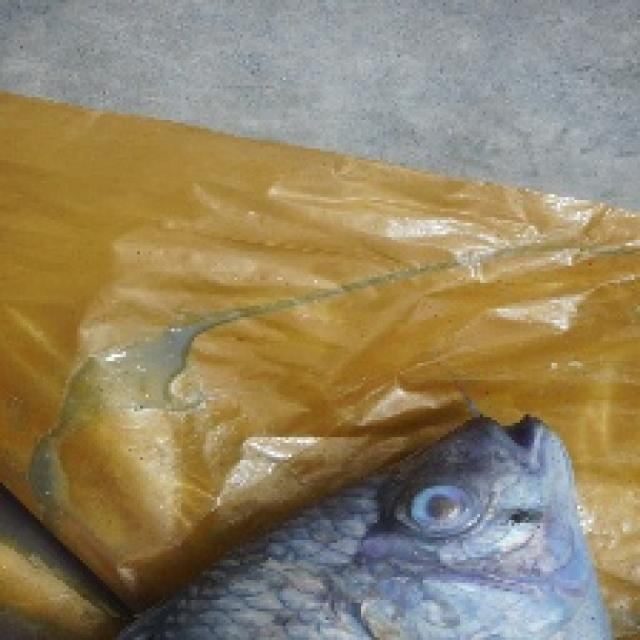Non-Fresh: (402, 471, 476, 554)
